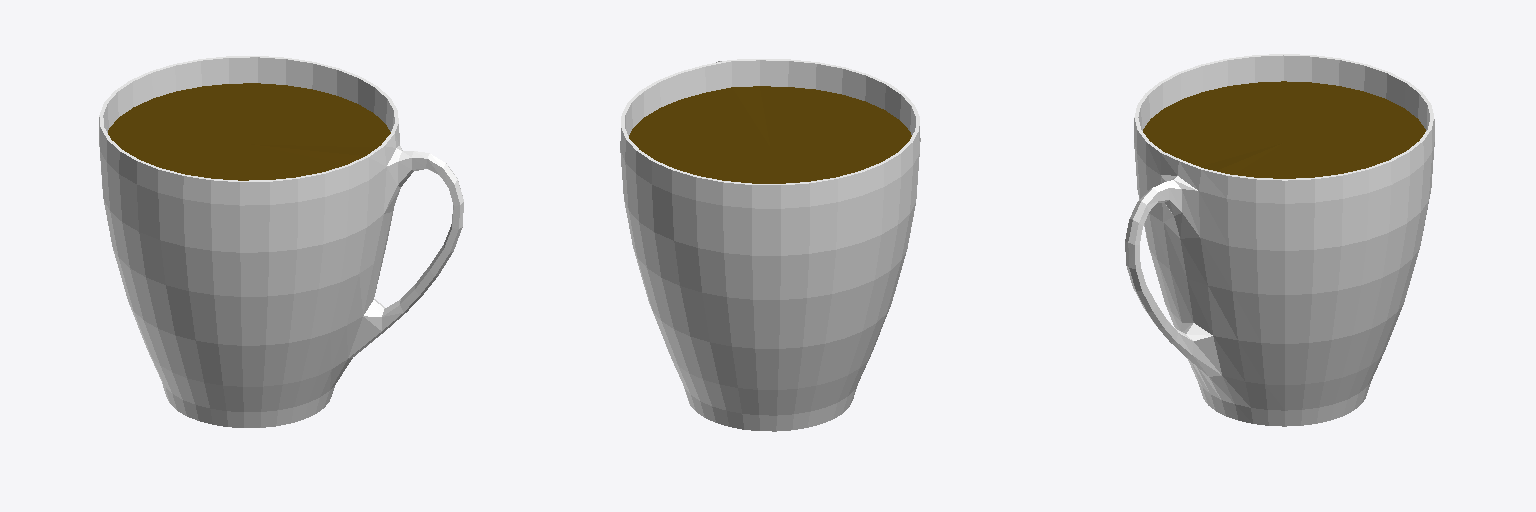
3 views of the same model, side by side, from view 1: azimuth 30°, elevation 25°; view 2: azimuth 150°, elevation 25°; view 3: azimuth 270°, elevation 25° (orthographic).
Visible parts, largest first — view 1: CoffeeCup_Circle; view 2: CoffeeCup_Circle; view 3: CoffeeCup_Circle.
Boxes of the visible parts, <box> form: CoffeeCup_Circle: <box>99,56,463,427</box>; CoffeeCup_Circle: <box>620,59,920,431</box>; CoffeeCup_Circle: <box>1125,54,1434,426</box>.
Bounding box in the file's own units: 1.02 × 0.998 × 1.02.
Materials: 1 (1 with a texture image).